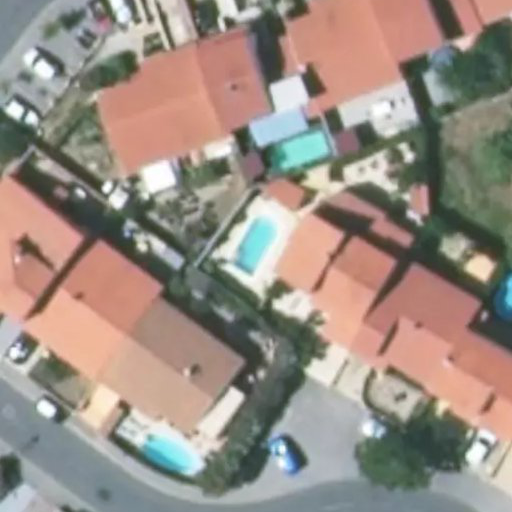pool: (229, 217, 276, 280), (137, 434, 199, 479)
